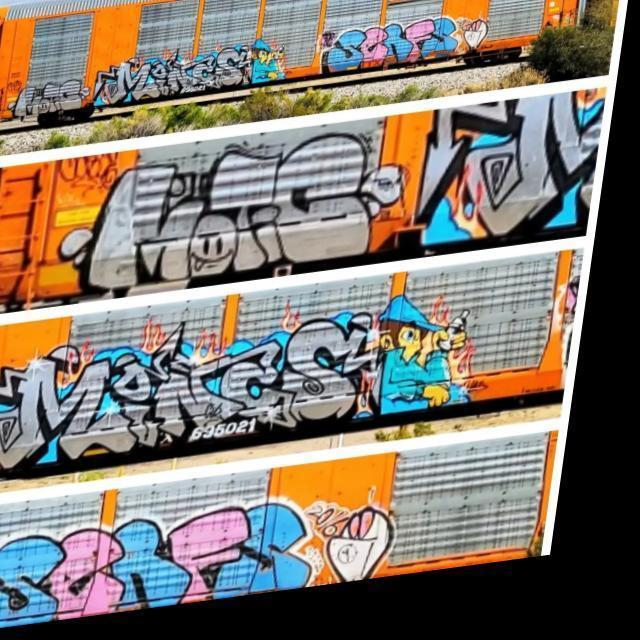nonspitting: (61, 134, 404, 290), (2, 499, 392, 624), (2, 310, 380, 437), (92, 43, 248, 94), (325, 16, 458, 70), (16, 76, 88, 114)
spitting: (380, 293, 477, 413), (253, 40, 287, 82)
